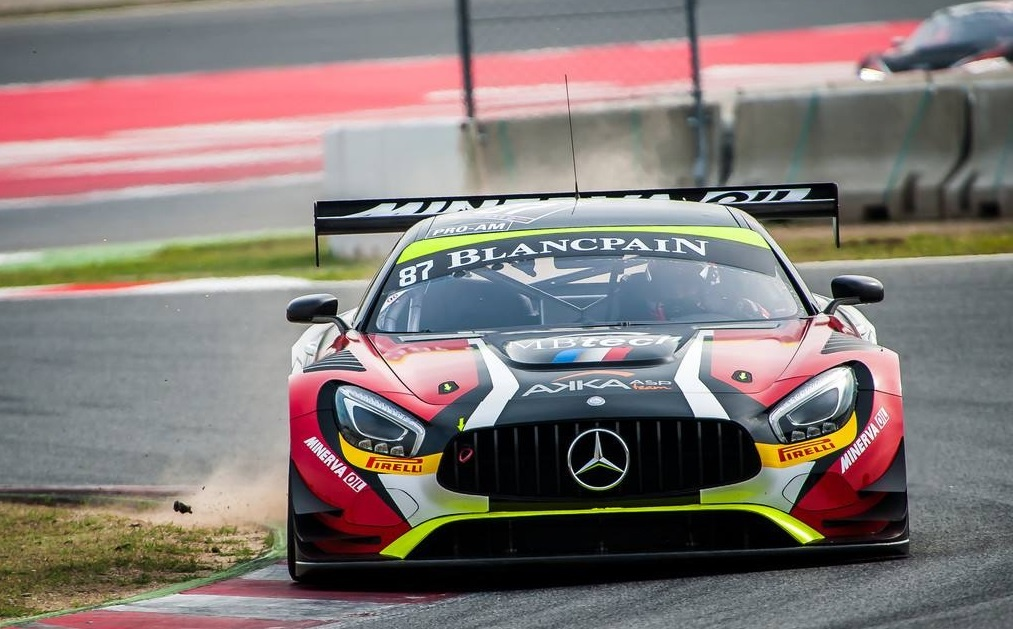racing car: (261, 161, 917, 576)
